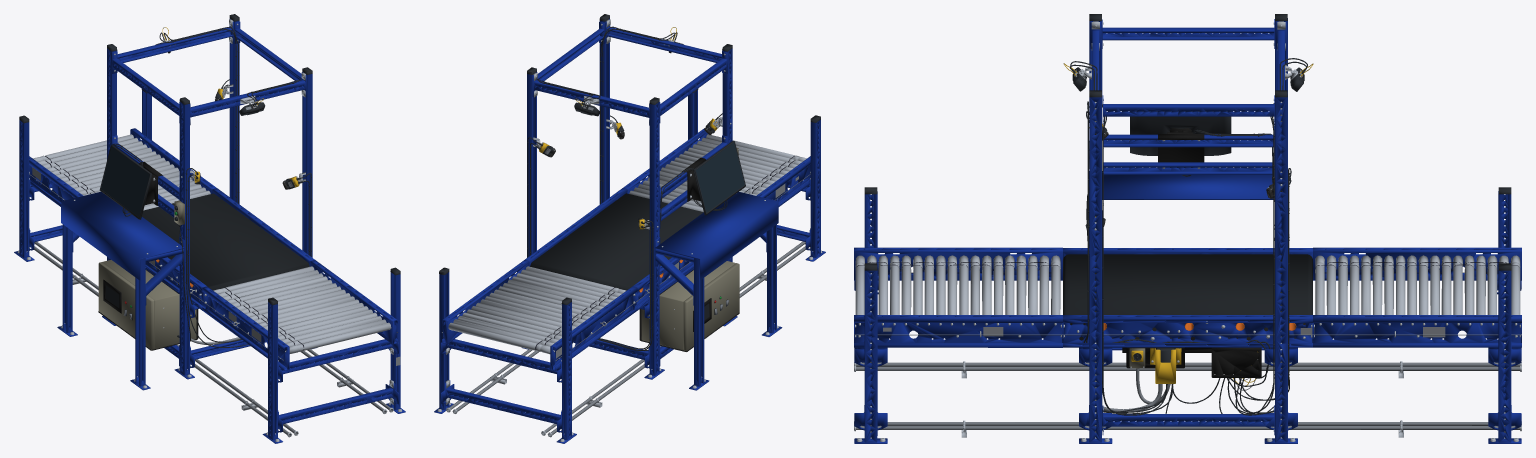
3 renders of one model, left to right at view 1: azimuth 30°, elevation 25°; view 2: azimuth 150°, elevation 25°; view 3: azimuth 270°, elevation 25°, orthographic. The views are drawn at different scales.
Parts seen in each view (by area): view 1: part_b492f677aa7a5b7c, part_68c676bea03e510d, part_8bd85293a60856cb, part_ac2e4961338953db, part_8ab84fa53eec5cd2, part_b356586359f8511b, part_0ca6b17b1ba15953, part_4faab7bf7b495580, part_663b9dd1726e5612, part_4f22c847293e5aac, part_ebe1ee5938485de8, part_f3fa07d0afd35888 (+11 smaller); view 2: part_b492f677aa7a5b7c, part_d97cbe16906c5a23, part_893e6863ebe15100, part_2142427796c45352, part_c82b7453aa0a5627, part_1f53666c628d543c, part_2c545c691f6b517b, part_84e16ded23205dea, part_a98f26b69e9051c7, part_3d5c39e101a65828, part_bb2e941bf1695b3f, part_d2d8882fff3f5371 (+10 smaller); view 3: part_b492f677aa7a5b7c.
Boxes of the visible parts, left/top/right/bottom form: part_b492f677aa7a5b7c: left=14, top=14, right=405, bottom=443; part_68c676bea03e510d: left=289, top=322, right=391, bottom=353; part_8bd85293a60856cb: left=213, top=266, right=314, bottom=293; part_ac2e4961338953db: left=227, top=276, right=327, bottom=303; part_8ab84fa53eec5cd2: left=232, top=279, right=332, bottom=306; part_b356586359f8511b: left=278, top=312, right=377, bottom=339; part_0ca6b17b1ba15953: left=281, top=316, right=381, bottom=343; part_4faab7bf7b495580: left=218, top=270, right=318, bottom=296; part_663b9dd1726e5612: left=285, top=319, right=386, bottom=346; part_4f22c847293e5aac: left=222, top=273, right=323, bottom=300; part_ebe1ee5938485de8: left=278, top=309, right=372, bottom=336; part_f3fa07d0afd35888: left=267, top=306, right=368, bottom=331; part_b492f677aa7a5b7c: left=434, top=14, right=825, bottom=443; part_d97cbe16906c5a23: left=448, top=322, right=550, bottom=354; part_893e6863ebe15100: left=525, top=266, right=626, bottom=293; part_2142427796c45352: left=507, top=279, right=608, bottom=306; part_c82b7453aa0a5627: left=457, top=316, right=558, bottom=343; part_1f53666c628d543c: left=521, top=269, right=621, bottom=296; part_2c545c691f6b517b: left=453, top=319, right=553, bottom=346; part_84e16ded23205dea: left=512, top=276, right=612, bottom=303; part_a98f26b69e9051c7: left=516, top=273, right=617, bottom=300; part_3d5c39e101a65828: left=462, top=312, right=561, bottom=339; part_bb2e941bf1695b3f: left=471, top=306, right=572, bottom=331; part_d2d8882fff3f5371: left=466, top=309, right=561, bottom=336; part_b492f677aa7a5b7c: left=854, top=14, right=1521, bottom=443.
Bounding box in the file's own units: 1.54 × 2.31 × 4.
